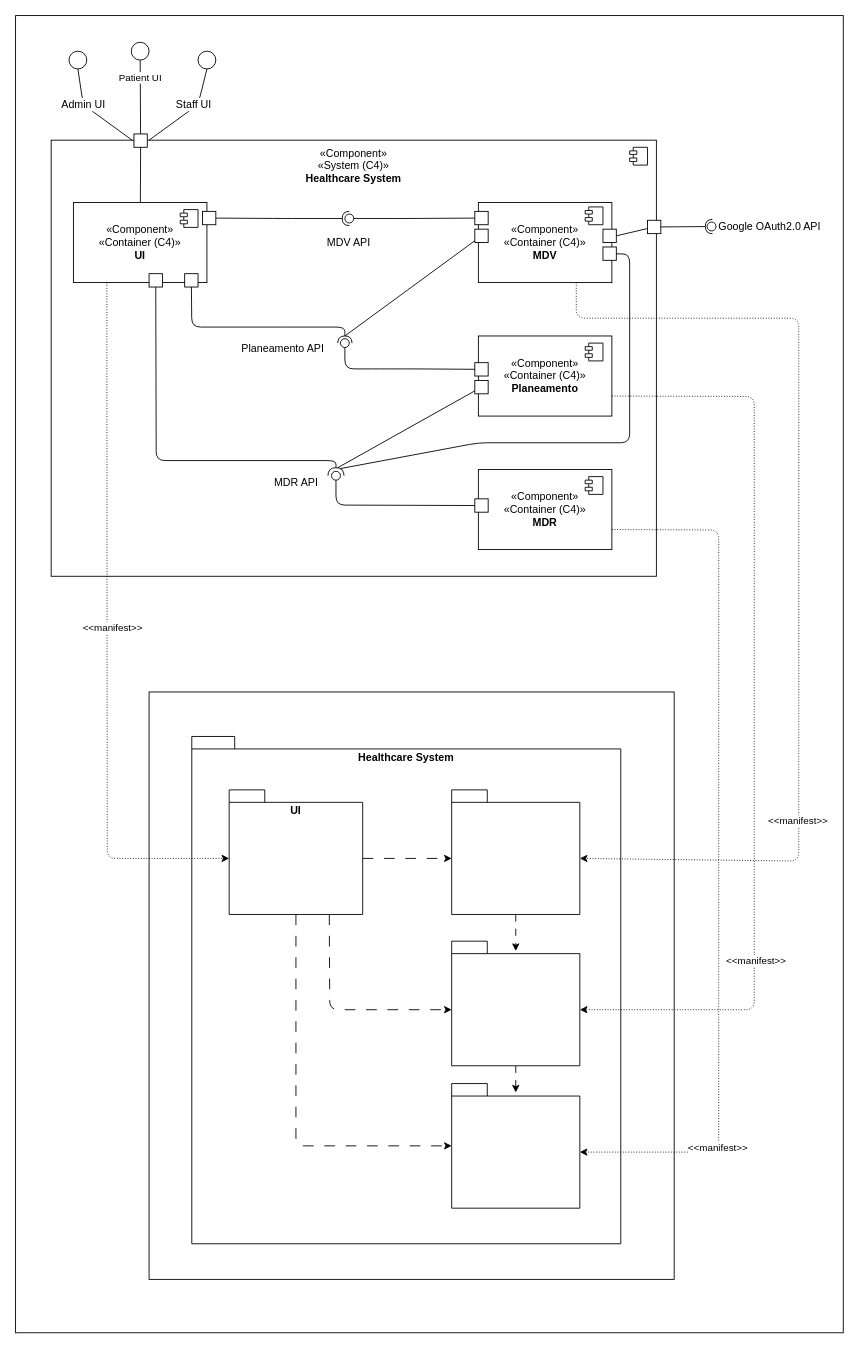
The diagram is 859 pixels wide and 1348 high, and some of its shapes have lost their labels. The centre of each missing label's shape, as x and y in pixels:
"MDR" goes at point 515,1145.
"MDV" goes at point 515,851.
"Planeamento" goes at point 515,1003.
